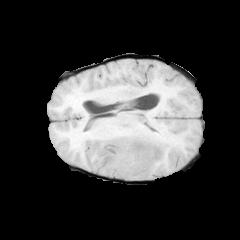glioma: (100, 129, 168, 173)
